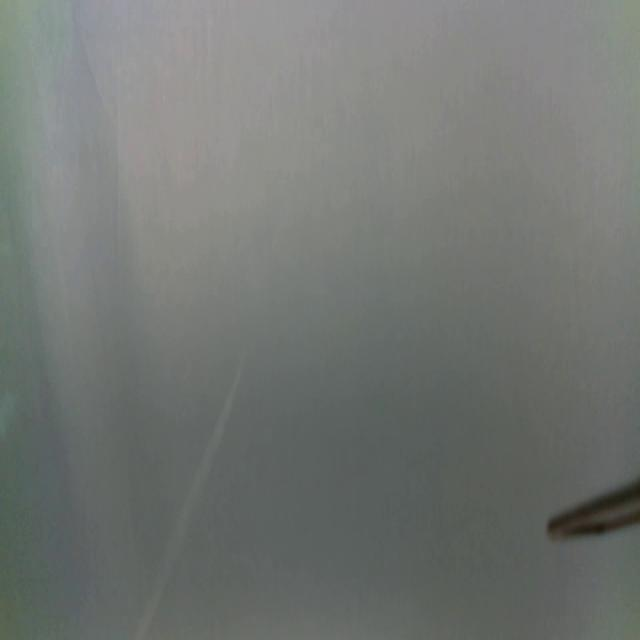crease: (136, 367, 245, 640)
